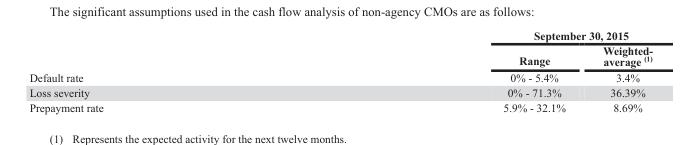table: (28, 28, 652, 113)
table column: (302, 28, 583, 113), (28, 28, 302, 113), (583, 28, 652, 113)
table column header: (28, 28, 652, 69)
table row: (28, 42, 652, 69), (28, 69, 652, 84), (28, 84, 652, 99), (28, 28, 652, 42), (28, 99, 652, 113)
table spanning cell: (302, 28, 652, 42)
